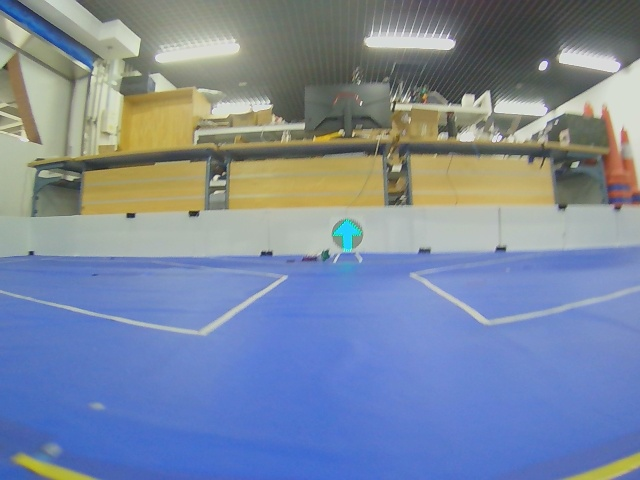straight_green: (332, 218, 364, 253)
